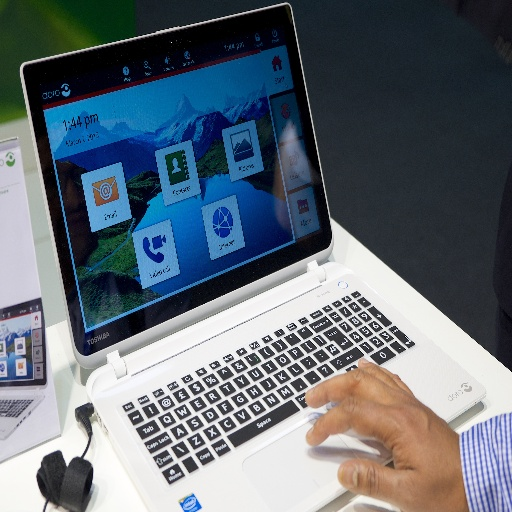hand: (304, 370, 466, 500)
